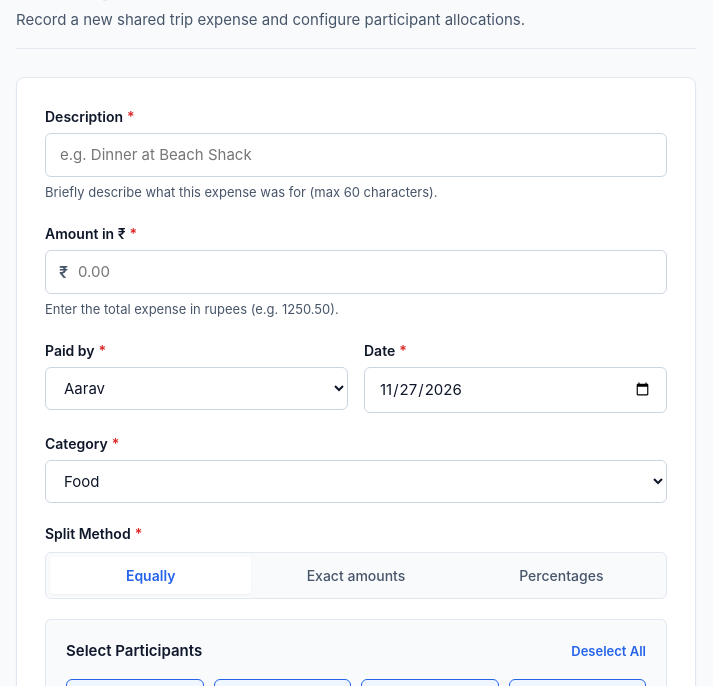
Test: AddExpensePage Integration › shows exact negative amount error: "Amount must be more than ₹0"
The image size is (713, 686).
Type "-50" into the field labelled "Amount in ₹ *" at [356, 272], box [45, 250, 667, 294]
(page scrolled)
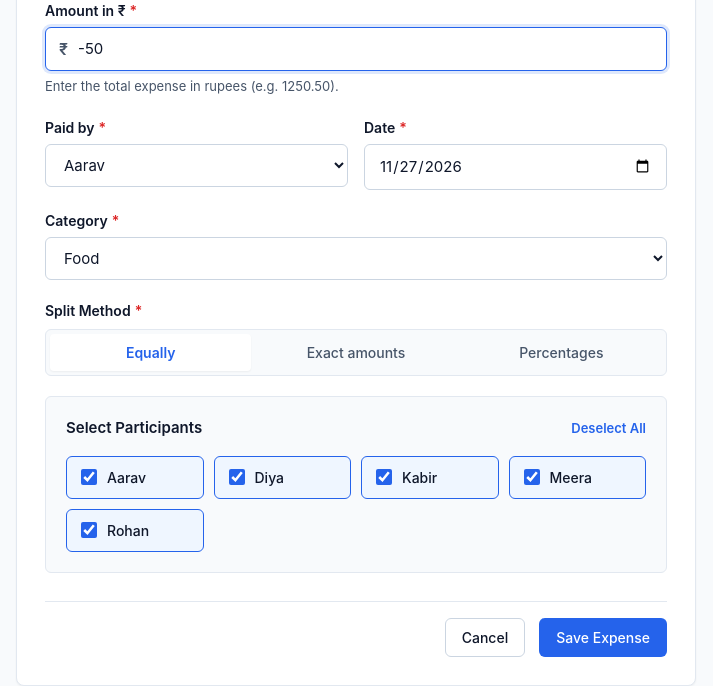
Click the button "Save Expense" at [603, 637], box [539, 618, 667, 656]
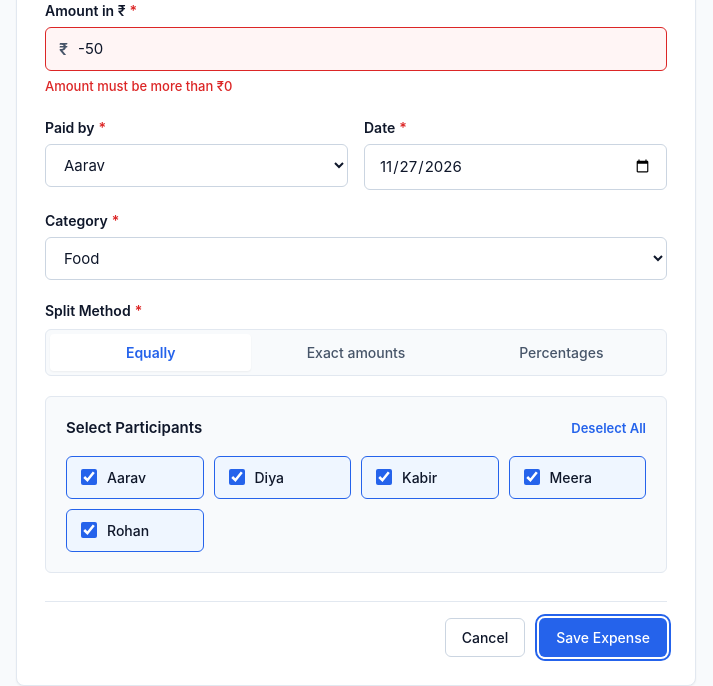
Result: the text "Amount must be more than ₹0" is shown at [45, 78, 232, 94]
